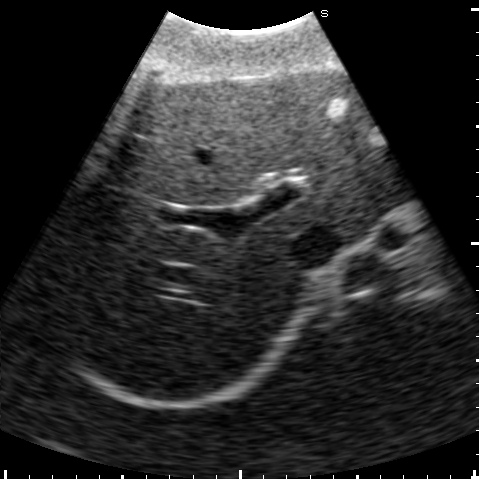IVC: (291, 227, 341, 267)
S1: (289, 194, 374, 234)
S2: (319, 161, 413, 205)
S3: (276, 71, 392, 183)
S4: (116, 73, 327, 207)
Tumor: (326, 98, 348, 119), (368, 129, 385, 147)
